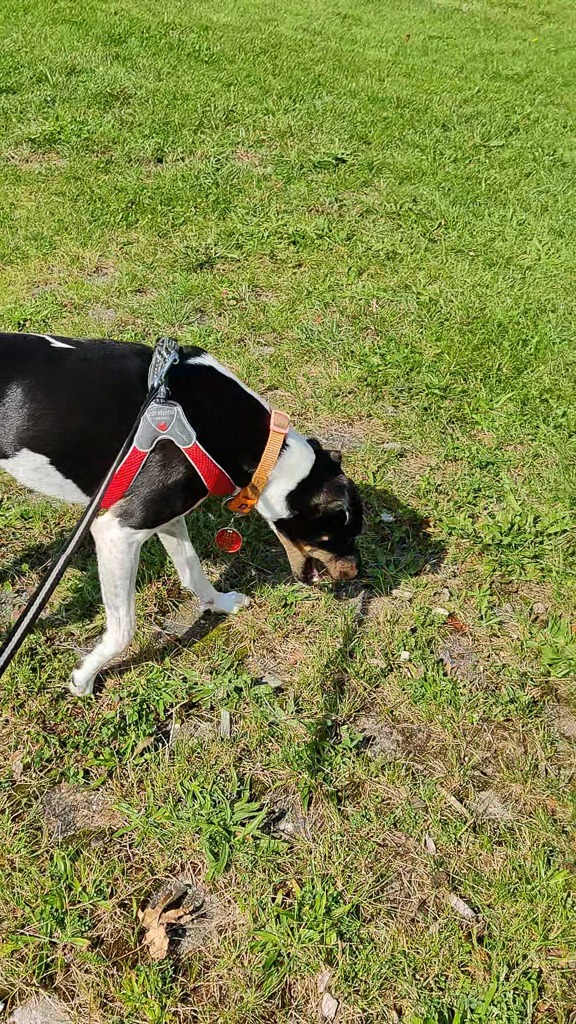Dog: (0, 298, 386, 704)
